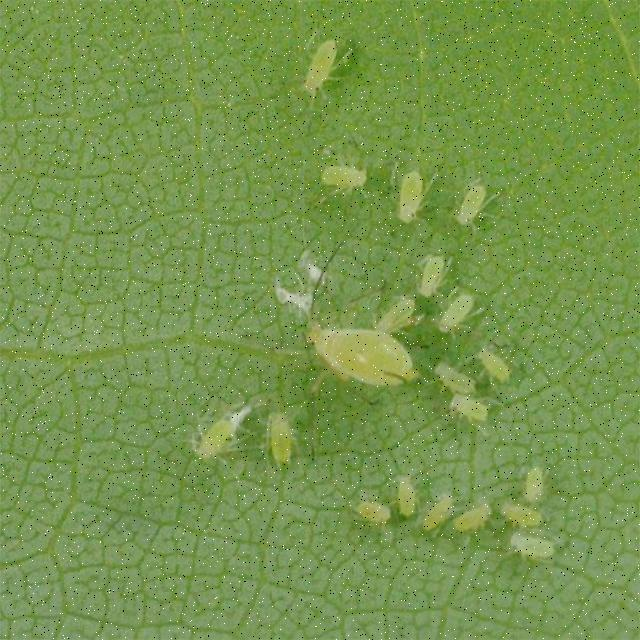Aphids: (294, 318, 432, 412), (171, 402, 257, 488), (251, 394, 317, 484), (287, 28, 359, 106), (371, 156, 434, 233), (449, 167, 506, 245), (311, 144, 377, 207), (462, 334, 535, 390), (417, 285, 481, 346), (348, 481, 412, 541), (367, 283, 428, 343), (452, 483, 507, 547), (439, 390, 505, 439), (386, 458, 434, 523), (421, 477, 464, 547), (497, 487, 555, 532), (428, 347, 477, 394), (412, 248, 454, 302), (514, 535, 572, 573), (516, 460, 557, 506)
